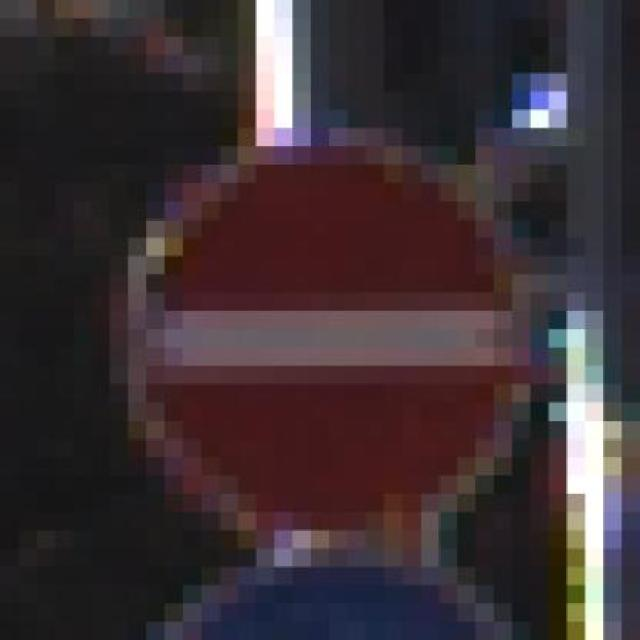B2: (126, 138, 514, 540)
